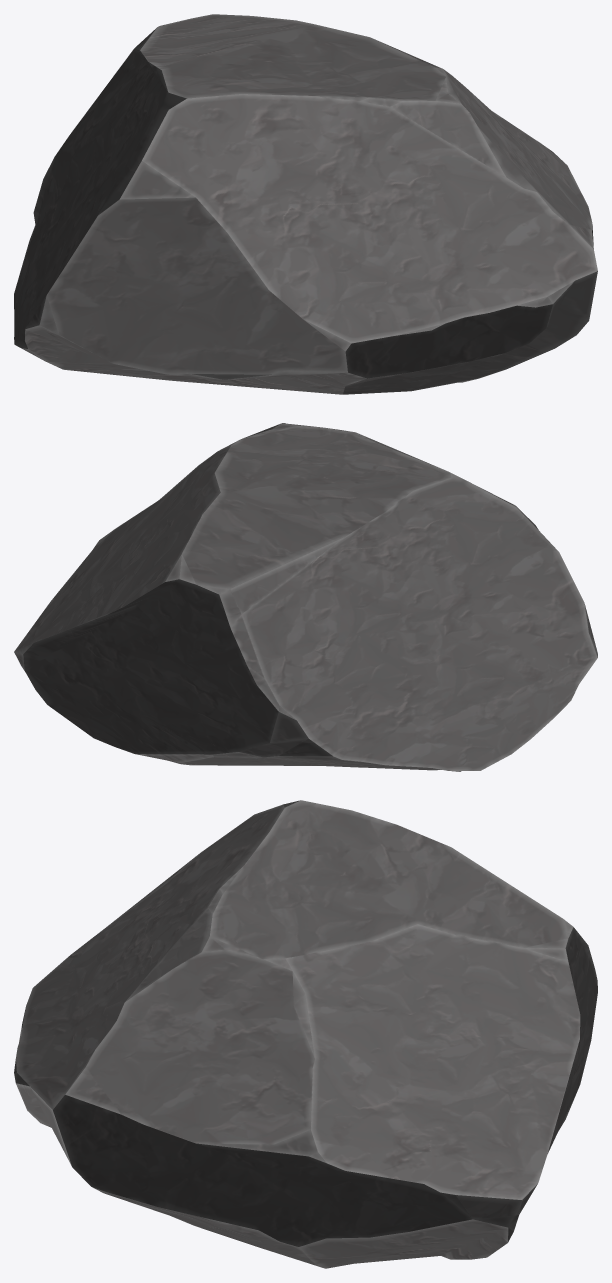
File: rock_short.glb
The picture shows the model from 3 angles, top to bottom: view 1: azimuth 30°, elevation 25°; view 2: azimuth 150°, elevation 25°; view 3: azimuth 270°, elevation 25°; orthographic projection. The views are drawn at different scales.
Visible parts, largest first — view 1: Cube.010; view 2: Cube.010; view 3: Cube.010.
Boxes of the visible parts, x1=… form: Cube.010: x1=14, y1=14, x2=597, y2=394; Cube.010: x1=14, y1=423, x2=597, y2=771; Cube.010: x1=14, y1=800, x2=597, y2=1268.
Size of the model in its own units: 7.75 by 4.64 by 7.21.
Materials: 1 (1 with a texture image).
